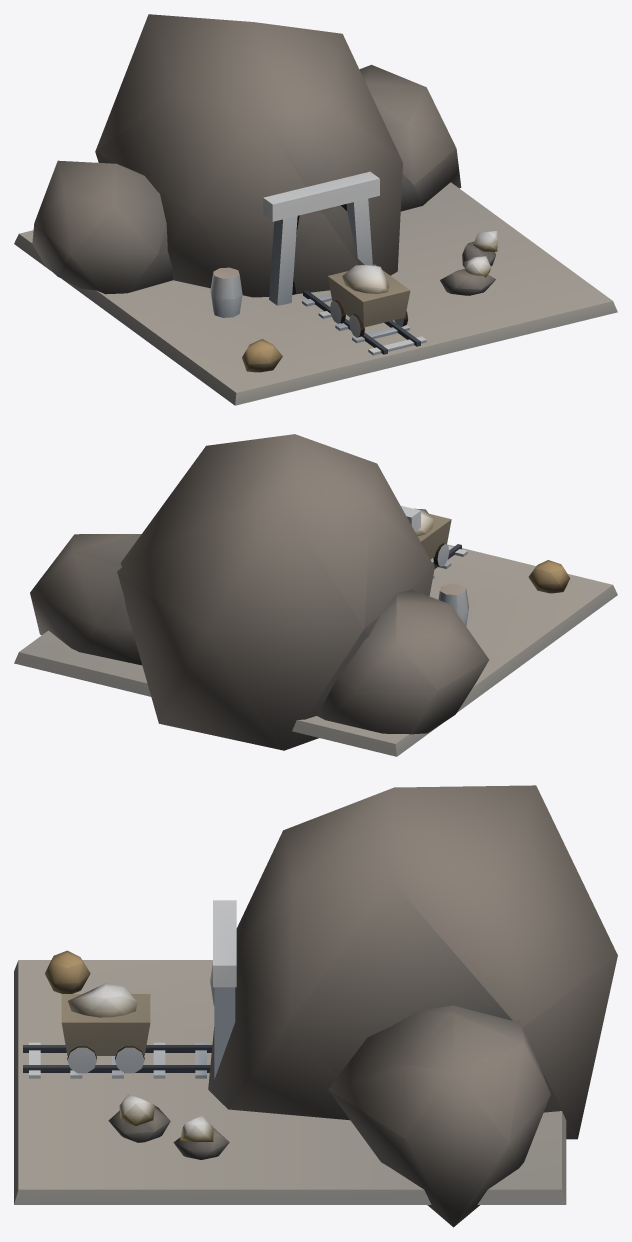
The model's file is goldmine_t2.glb.
3 renders of one model, top to bottom at view 1: azimuth 30°, elevation 25°; view 2: azimuth 150°, elevation 25°; view 3: azimuth 270°, elevation 25°, orthographic. The views are drawn at different scales.
Parts seen in each view (by area): view 1: goldmine_t2; view 2: goldmine_t2; view 3: goldmine_t2.
Part boxes in pixels (left/top/right/bottom): goldmine_t2: left=14, top=14, right=617, bottom=405; goldmine_t2: left=14, top=434, right=617, bottom=756; goldmine_t2: left=14, top=785, right=617, bottom=1227.
Bounding box in the file's own units: 2.04 × 1.18 × 2.03.
